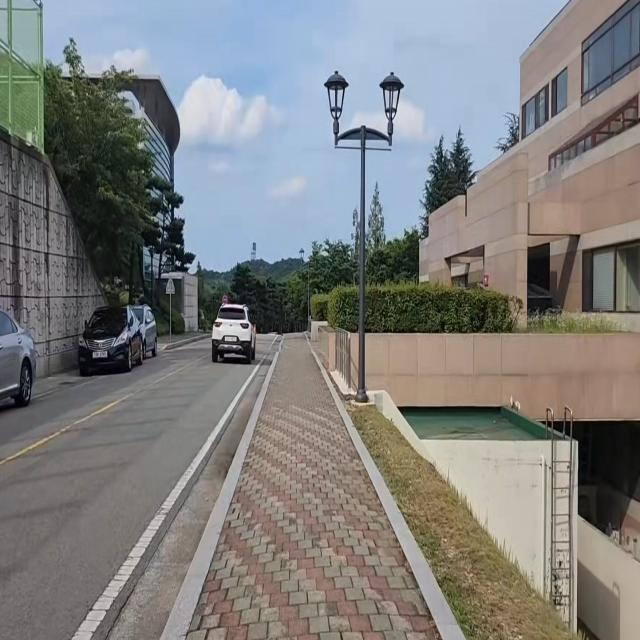obstacle: (321, 64, 407, 404), (72, 292, 165, 394), (0, 304, 41, 423), (207, 286, 265, 365)
road: (0, 335, 283, 640)
sidewalk: (161, 335, 469, 640)
